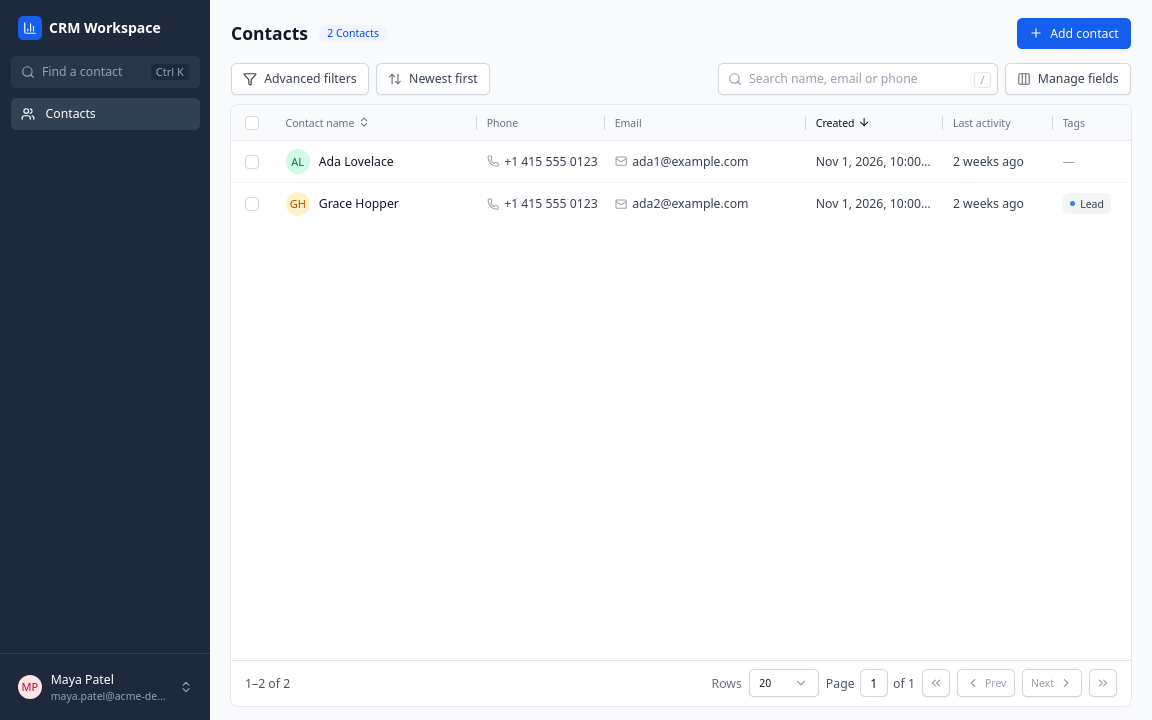
it: ContactsPage › tags the selected contacts in bulk
Check: the table is shown, box [231,105,1131,224]
Click the checkbox named "Select Ada Lovelace" at (252, 162), box [245,154,259,168]
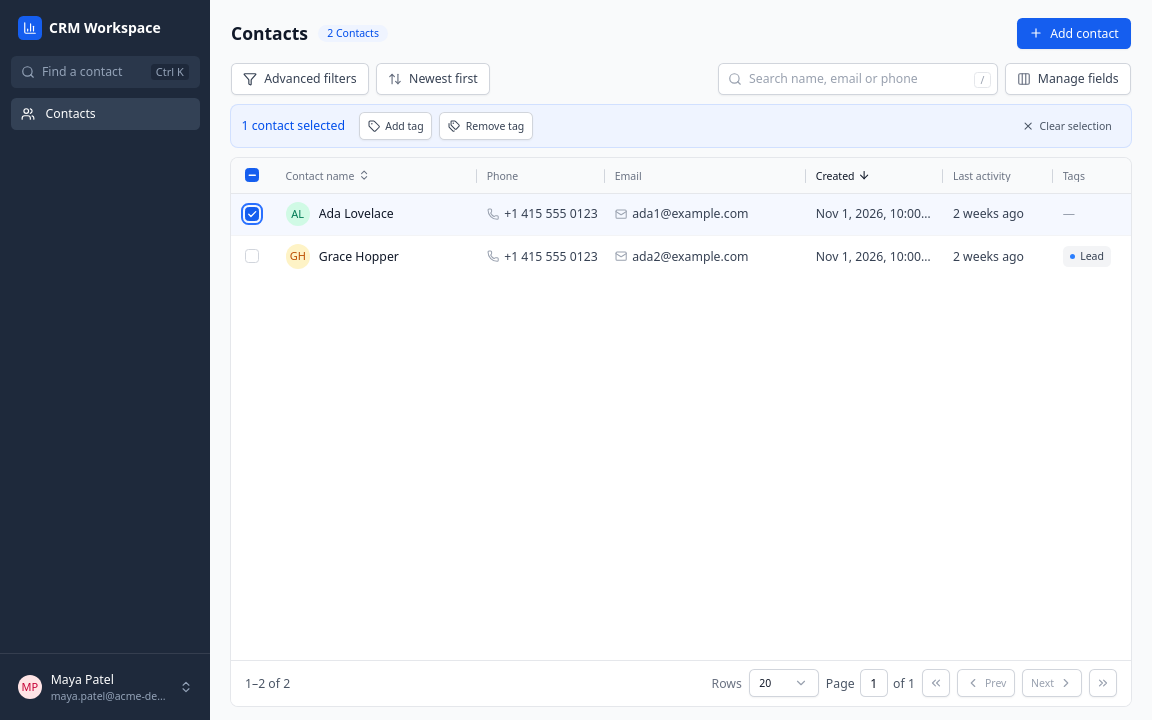
Click the checkbox named "Select Grace Hopper" at (252, 256), box [245,249,259,263]
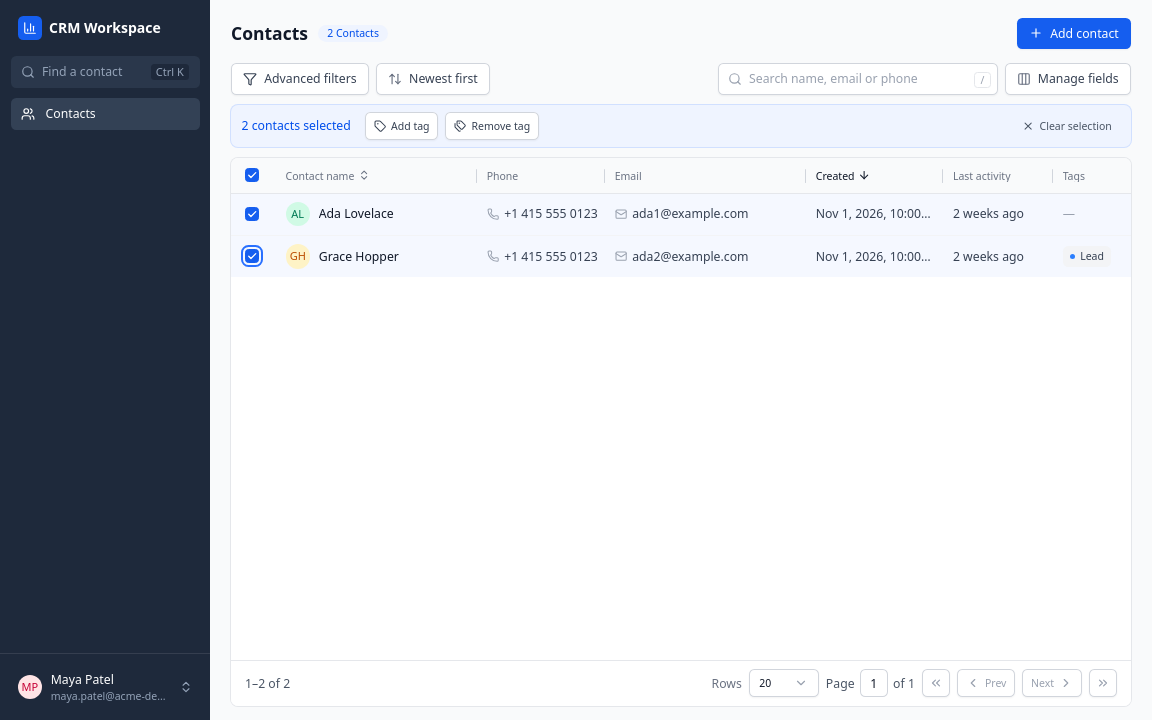
Check: the text "2 contacts selected" is shown, box [242,117,351,135]
Click the button "Add tag" at (402, 126), box [365,112,438,140]
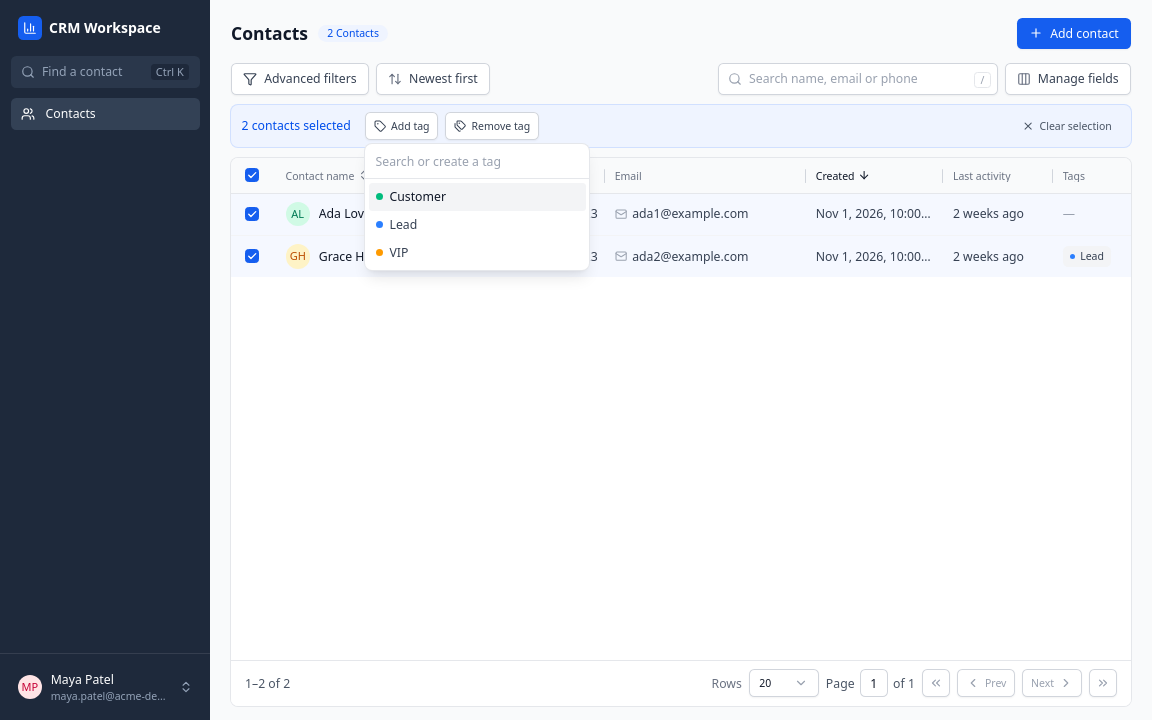
Click the option "VIP" at (392, 252), box [376,244,408,261]
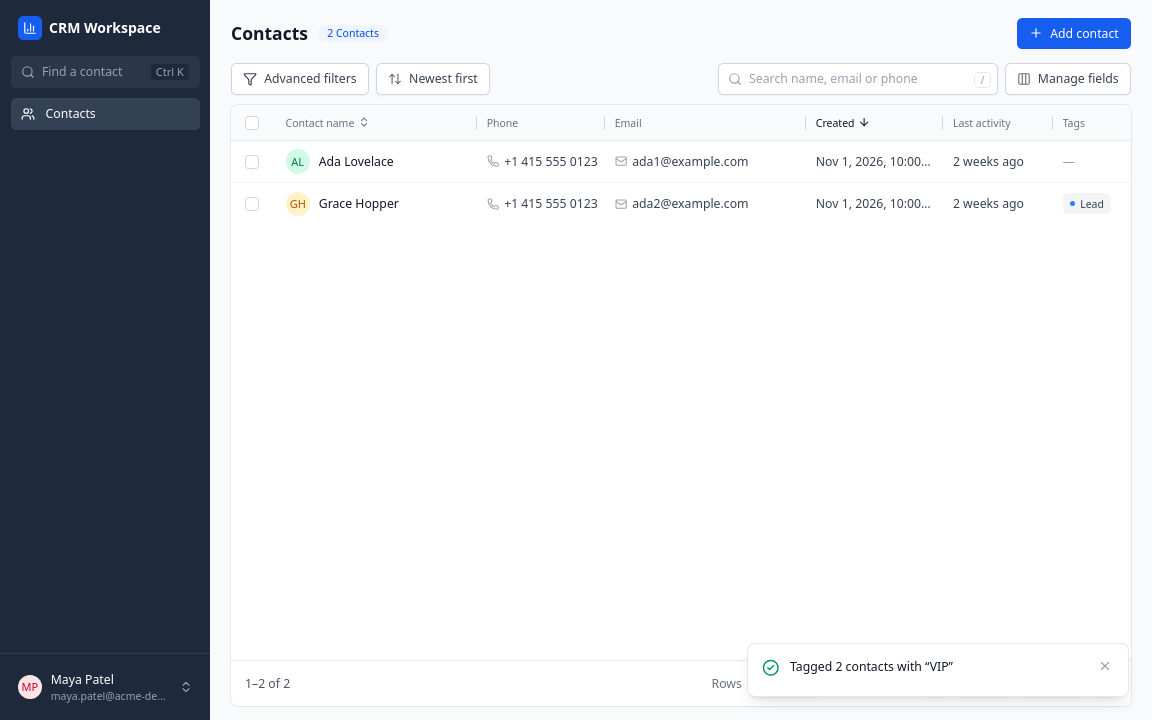
Check: the text "Tagged 2 contacts with “VIP”" is shown, box [790,658,953,674]
